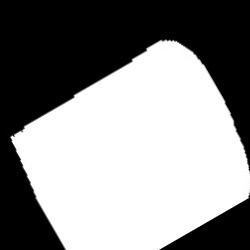spot: (12, 38, 248, 247)
